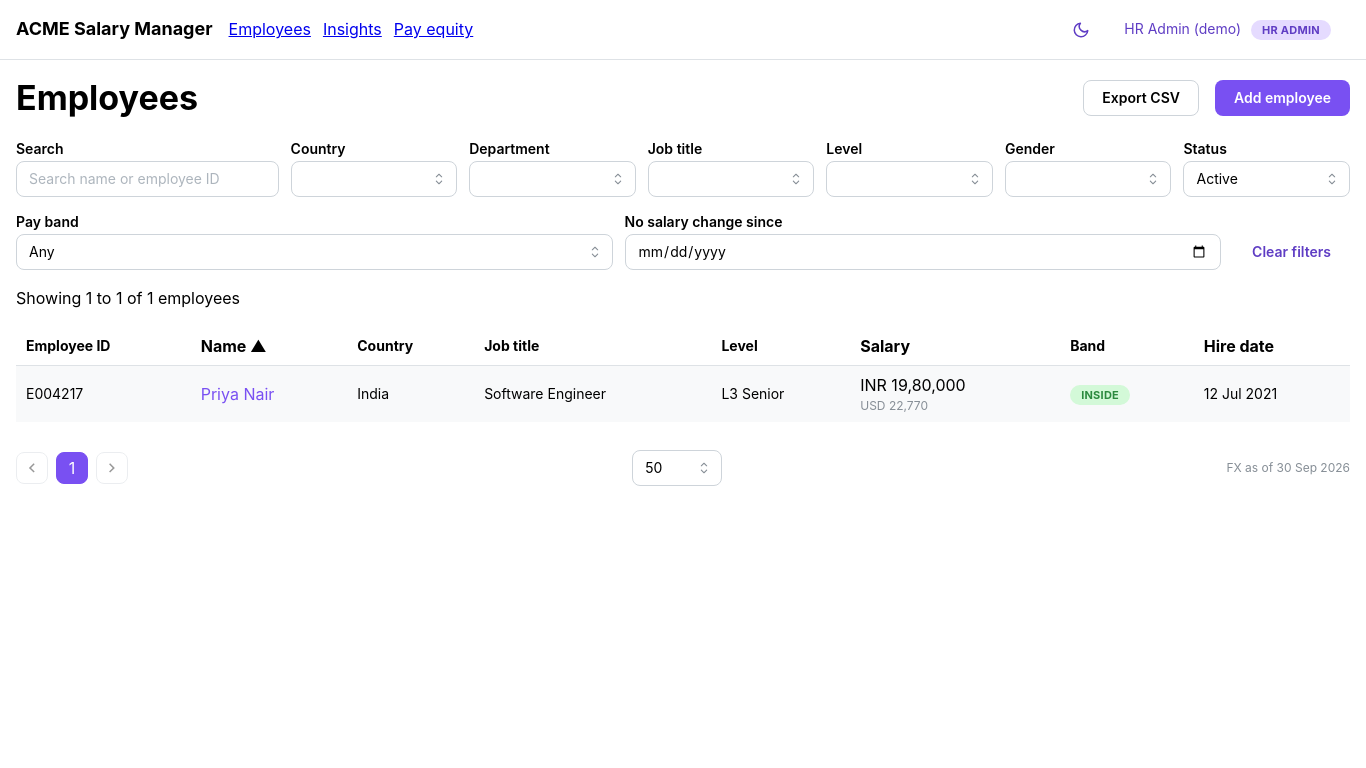
Test: export CSV button (04 sections 5.7 and 8.5) › shows an alert with "Retry" when the export fails, and retrying downloads the file
Check: the link "Priya Nair" is shown, box [201,382,274,407]
Click the button "Export CSV": (1141, 98) [1083,80,1199,116]
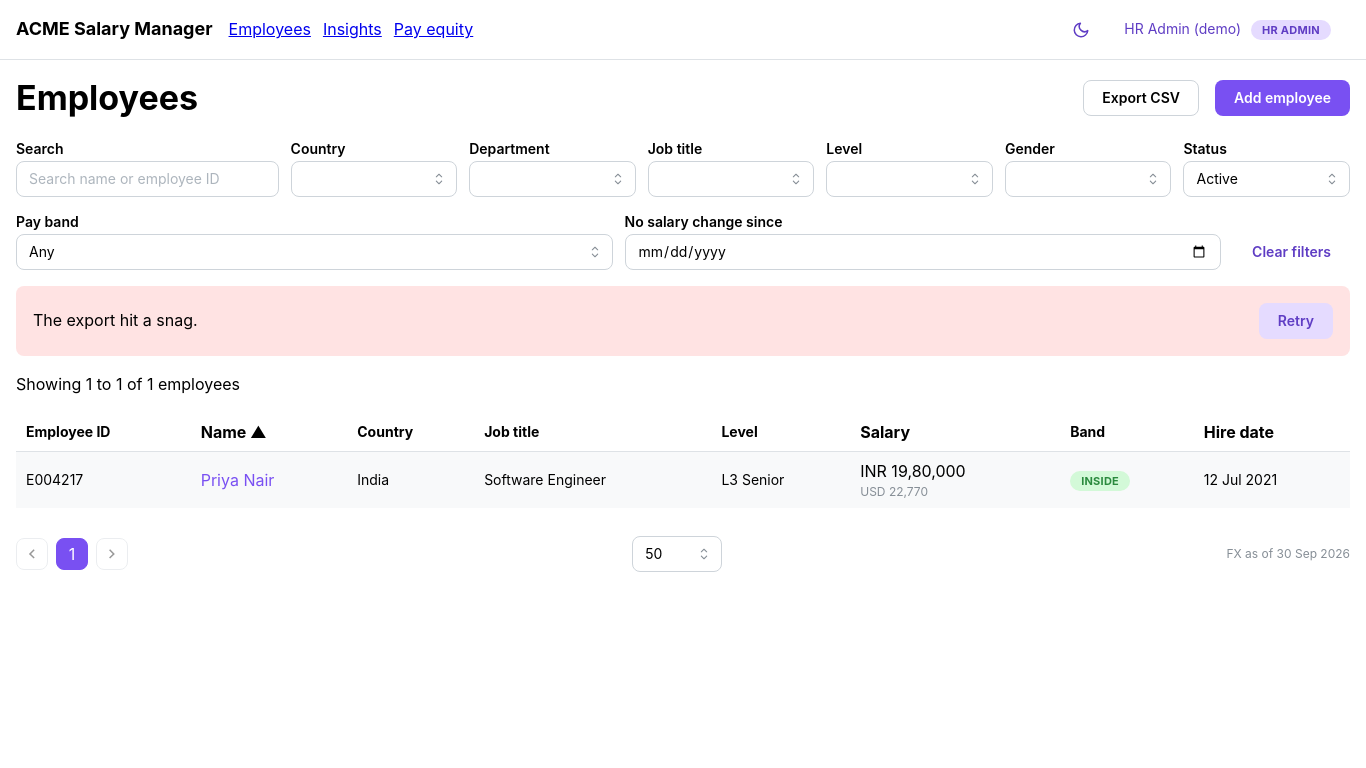
Check: the message shows "The export hit a snag.", box [33,310,198,330]
Click the button "Retry": (1296, 321) [1259,303,1333,339]
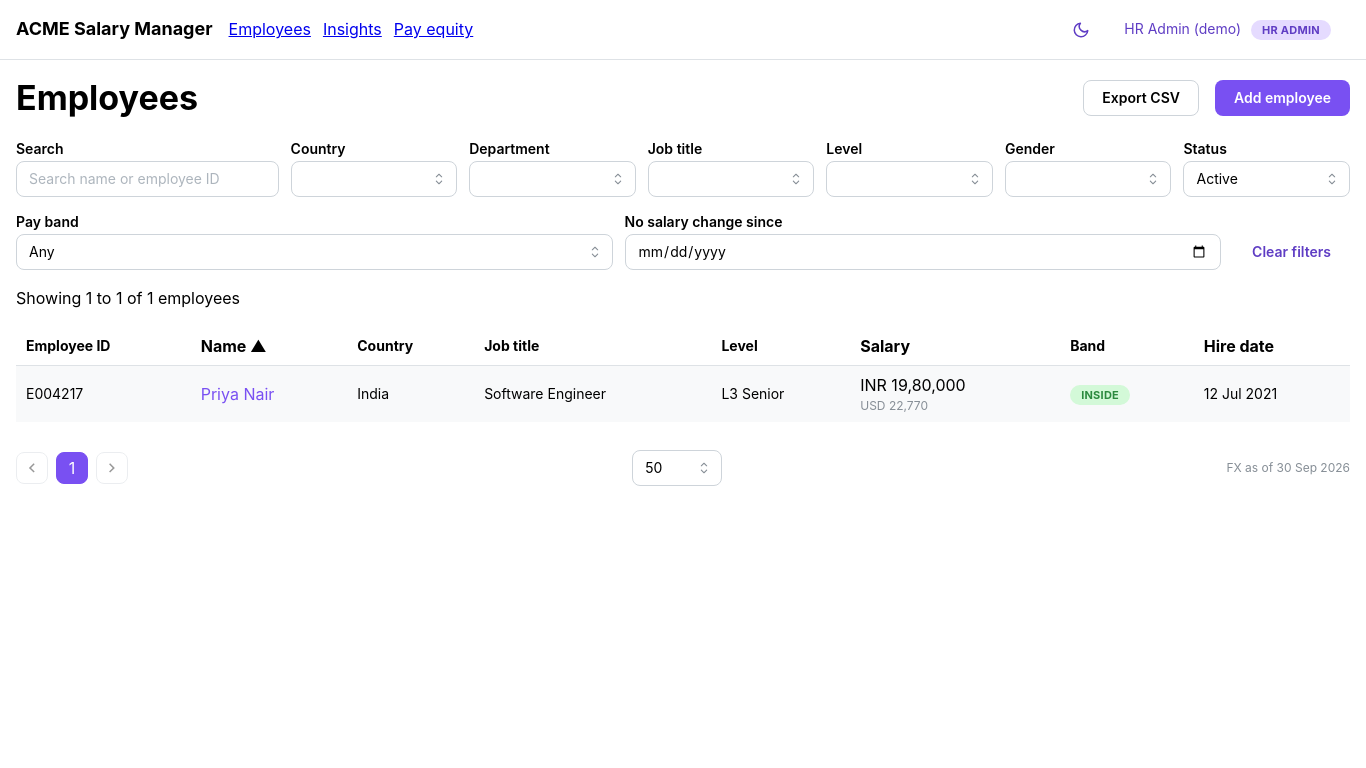
Check: the message "The export hit a snag. Retry" is gone
